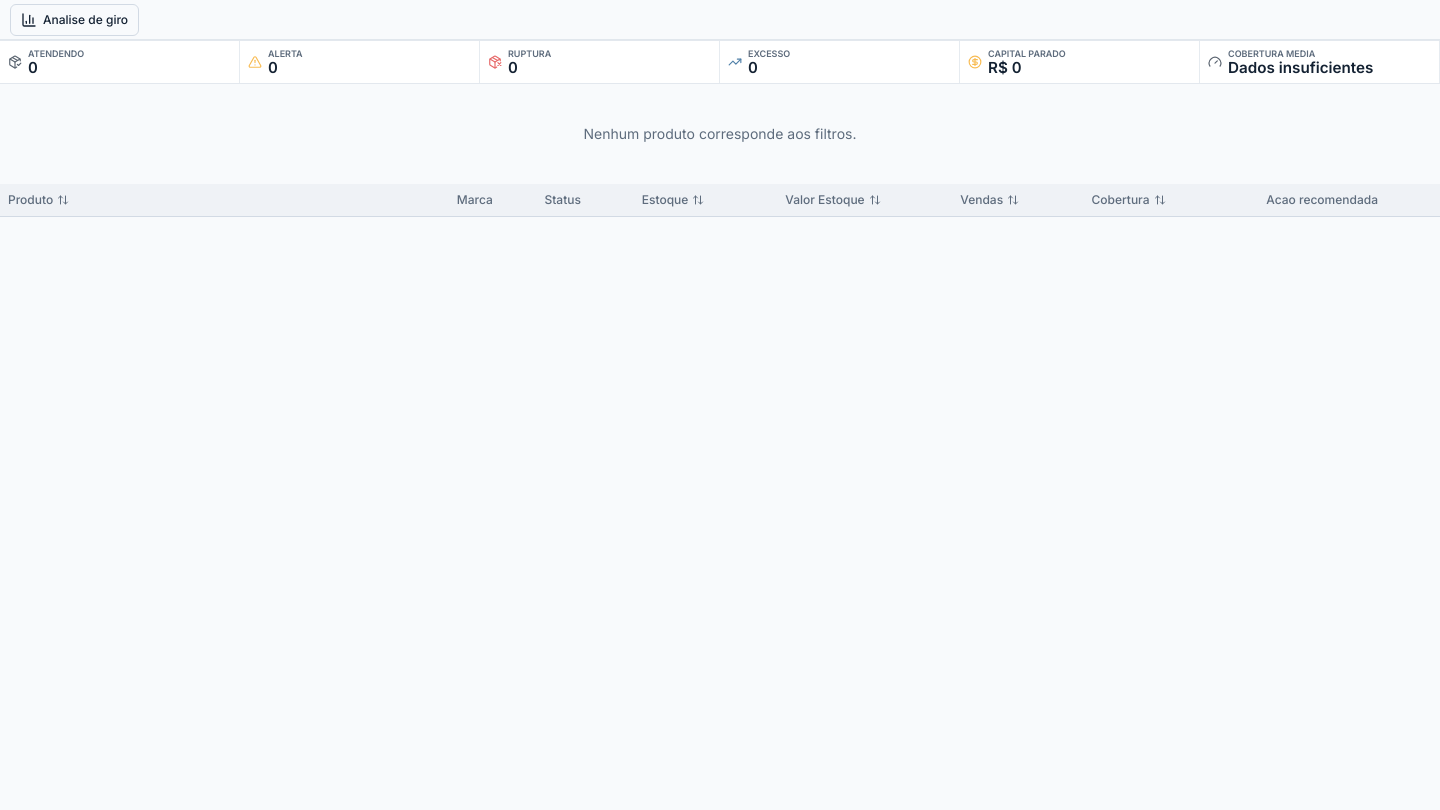
Test: GiroEstoqueTab › mostra estados vazios para tabela, graficos e rankings
Expected: the text "Nenhum produto corresponde aos filtros." is shown, [584, 125, 856, 142]
Click the button with aria-label "Abrir analise de giro" at {"x": 75, "y": 20}, box [10, 4, 139, 36]
(page scrolled)
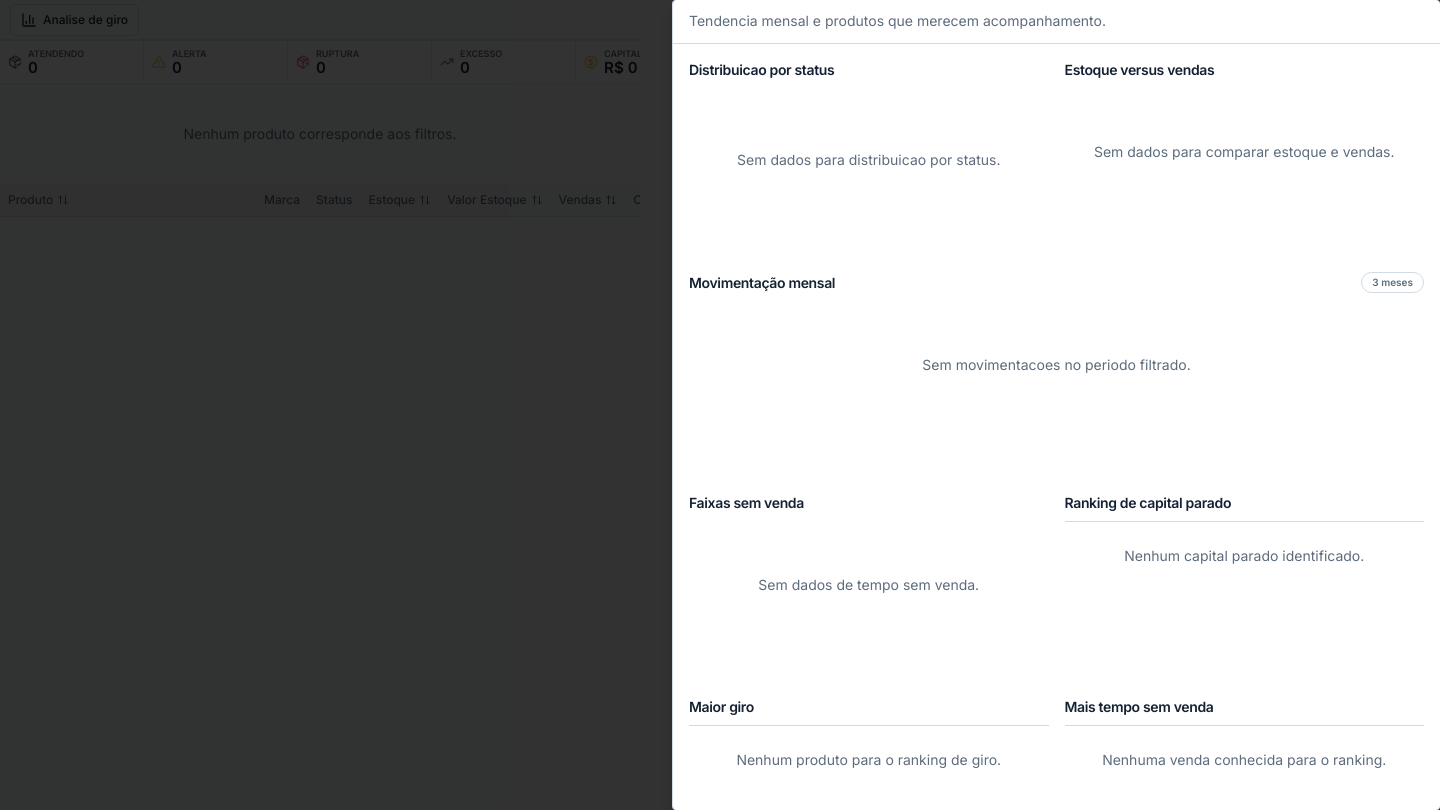
Expected: the text "Sem dados para distribuicao por status." is shown, [737, 151, 1000, 168]
Expected: the text "Sem dados para comparar estoque e vendas." is shown, [1094, 143, 1394, 160]
Expected: the text "Sem movimentacoes no periodo filtrado." is shown, [922, 356, 1191, 373]
